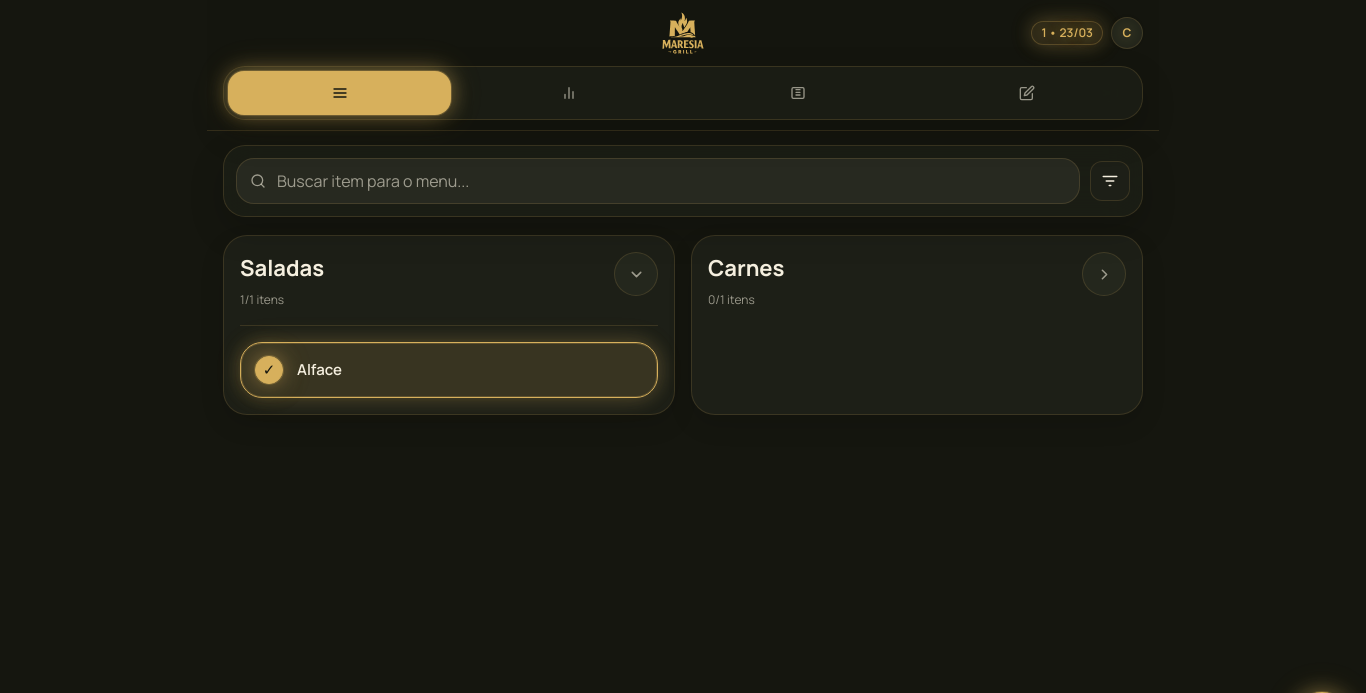
Test: App › hides toolbar and categories in statistics area
This screenshot has width=1366, height=693.
Click the tab named "Estatísticas": (568, 93) [457, 71, 680, 115]
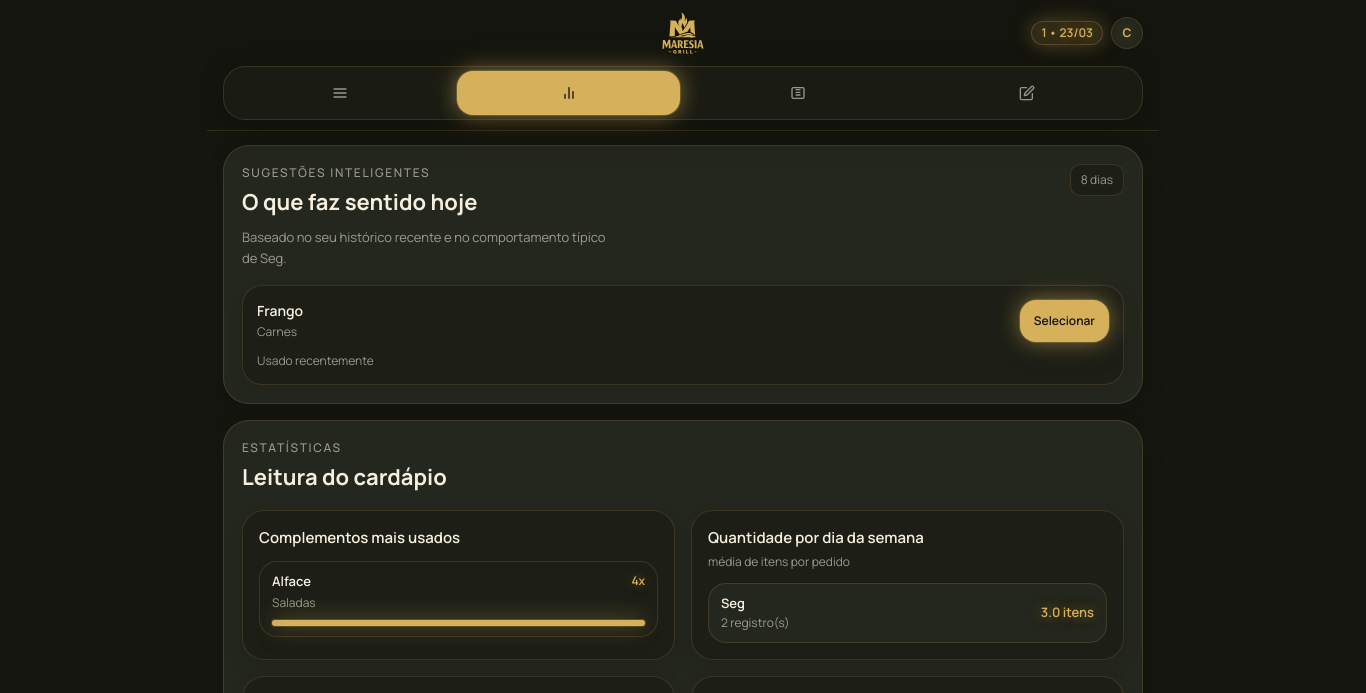
expect the heading "Leitura do cardápio" is shown: met, box [242, 462, 447, 492]
